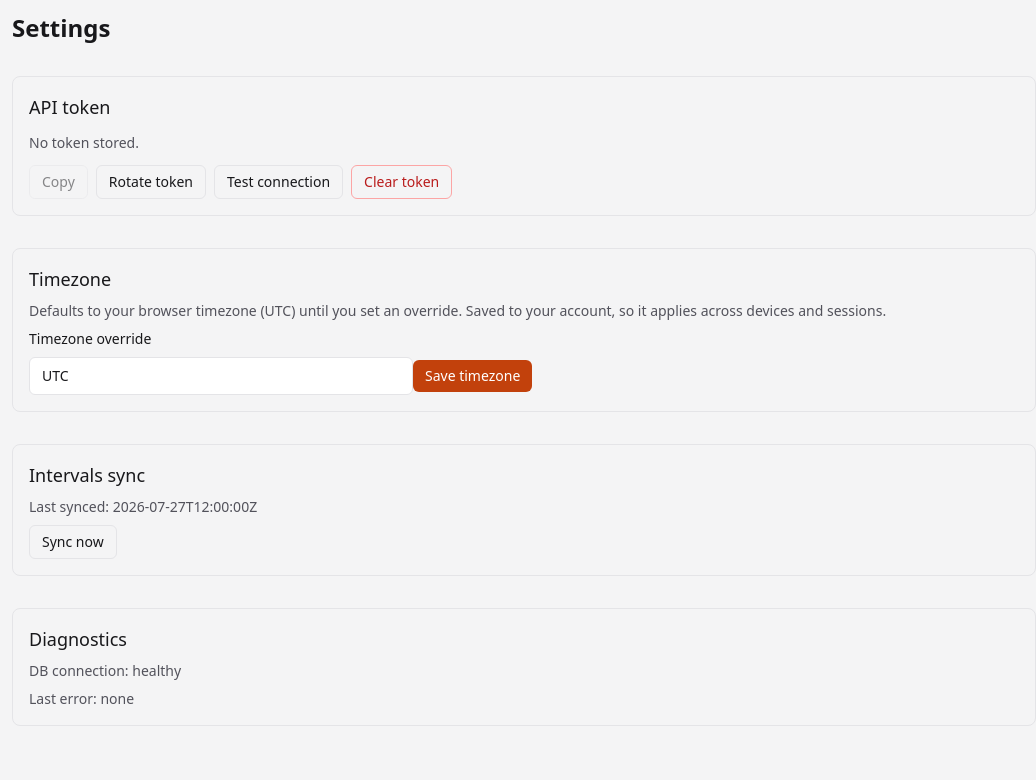
Test: SettingsPage › test connection succeeds via the authenticated sync-status endpoint
Expected: the text "Last synced: 2026-07-27T12:00:00Z" is shown, [29, 497, 257, 516]
Click the button "Test connection". click: (278, 182)
box: [214, 165, 343, 199]
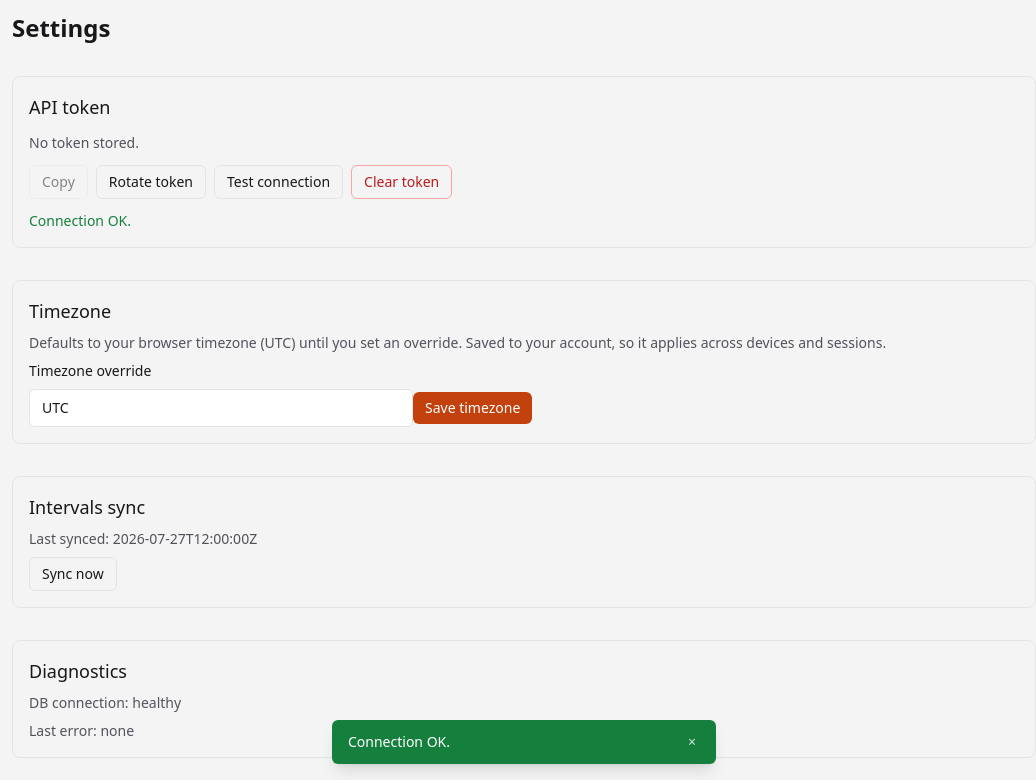
Expected: the text "Connection OK." is shown, [29, 211, 131, 230]
